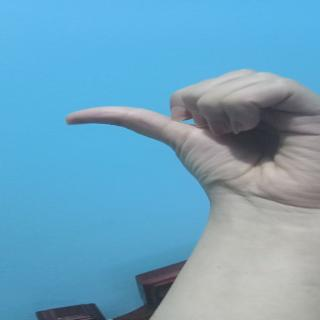WAW: (50, 69, 320, 193)
